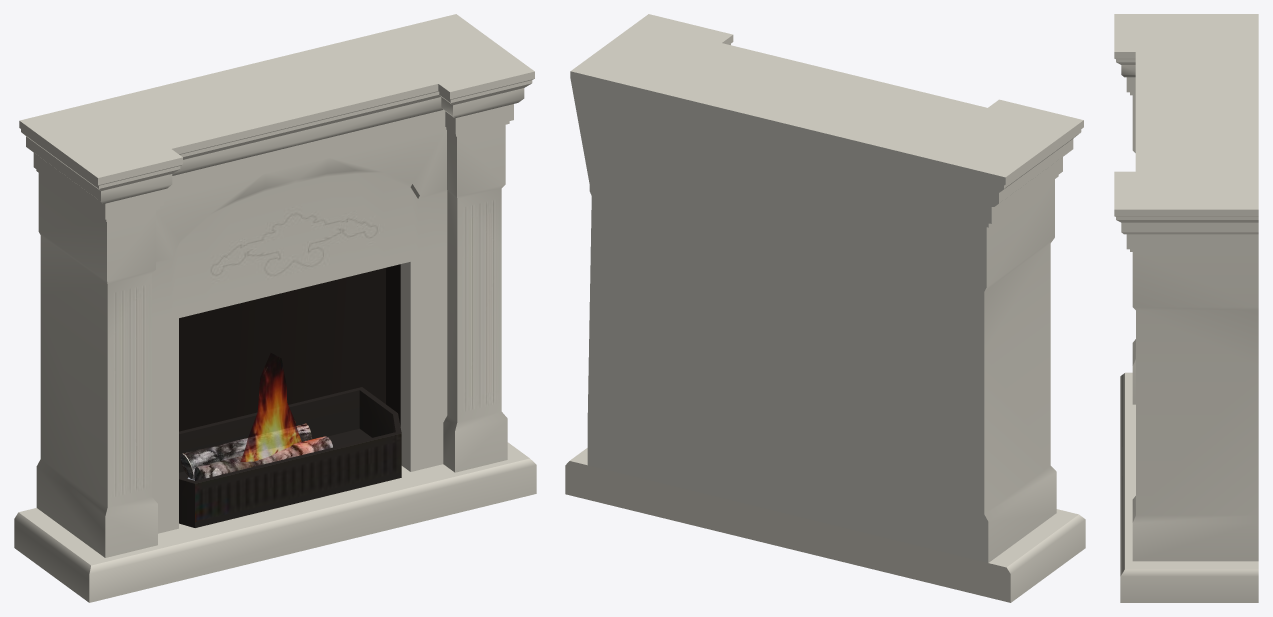
The model's file is sh_scopia_fireplace1.glb.
The picture shows the model from 3 angles, left to right: view 1: azimuth 30°, elevation 25°; view 2: azimuth 150°, elevation 25°; view 3: azimuth 270°, elevation 25°; orthographic projection. The views are drawn at different scales.
Bounding box in the file's own units: 1.15 × 1.05 × 0.351.
7 materials, 7 textured.
